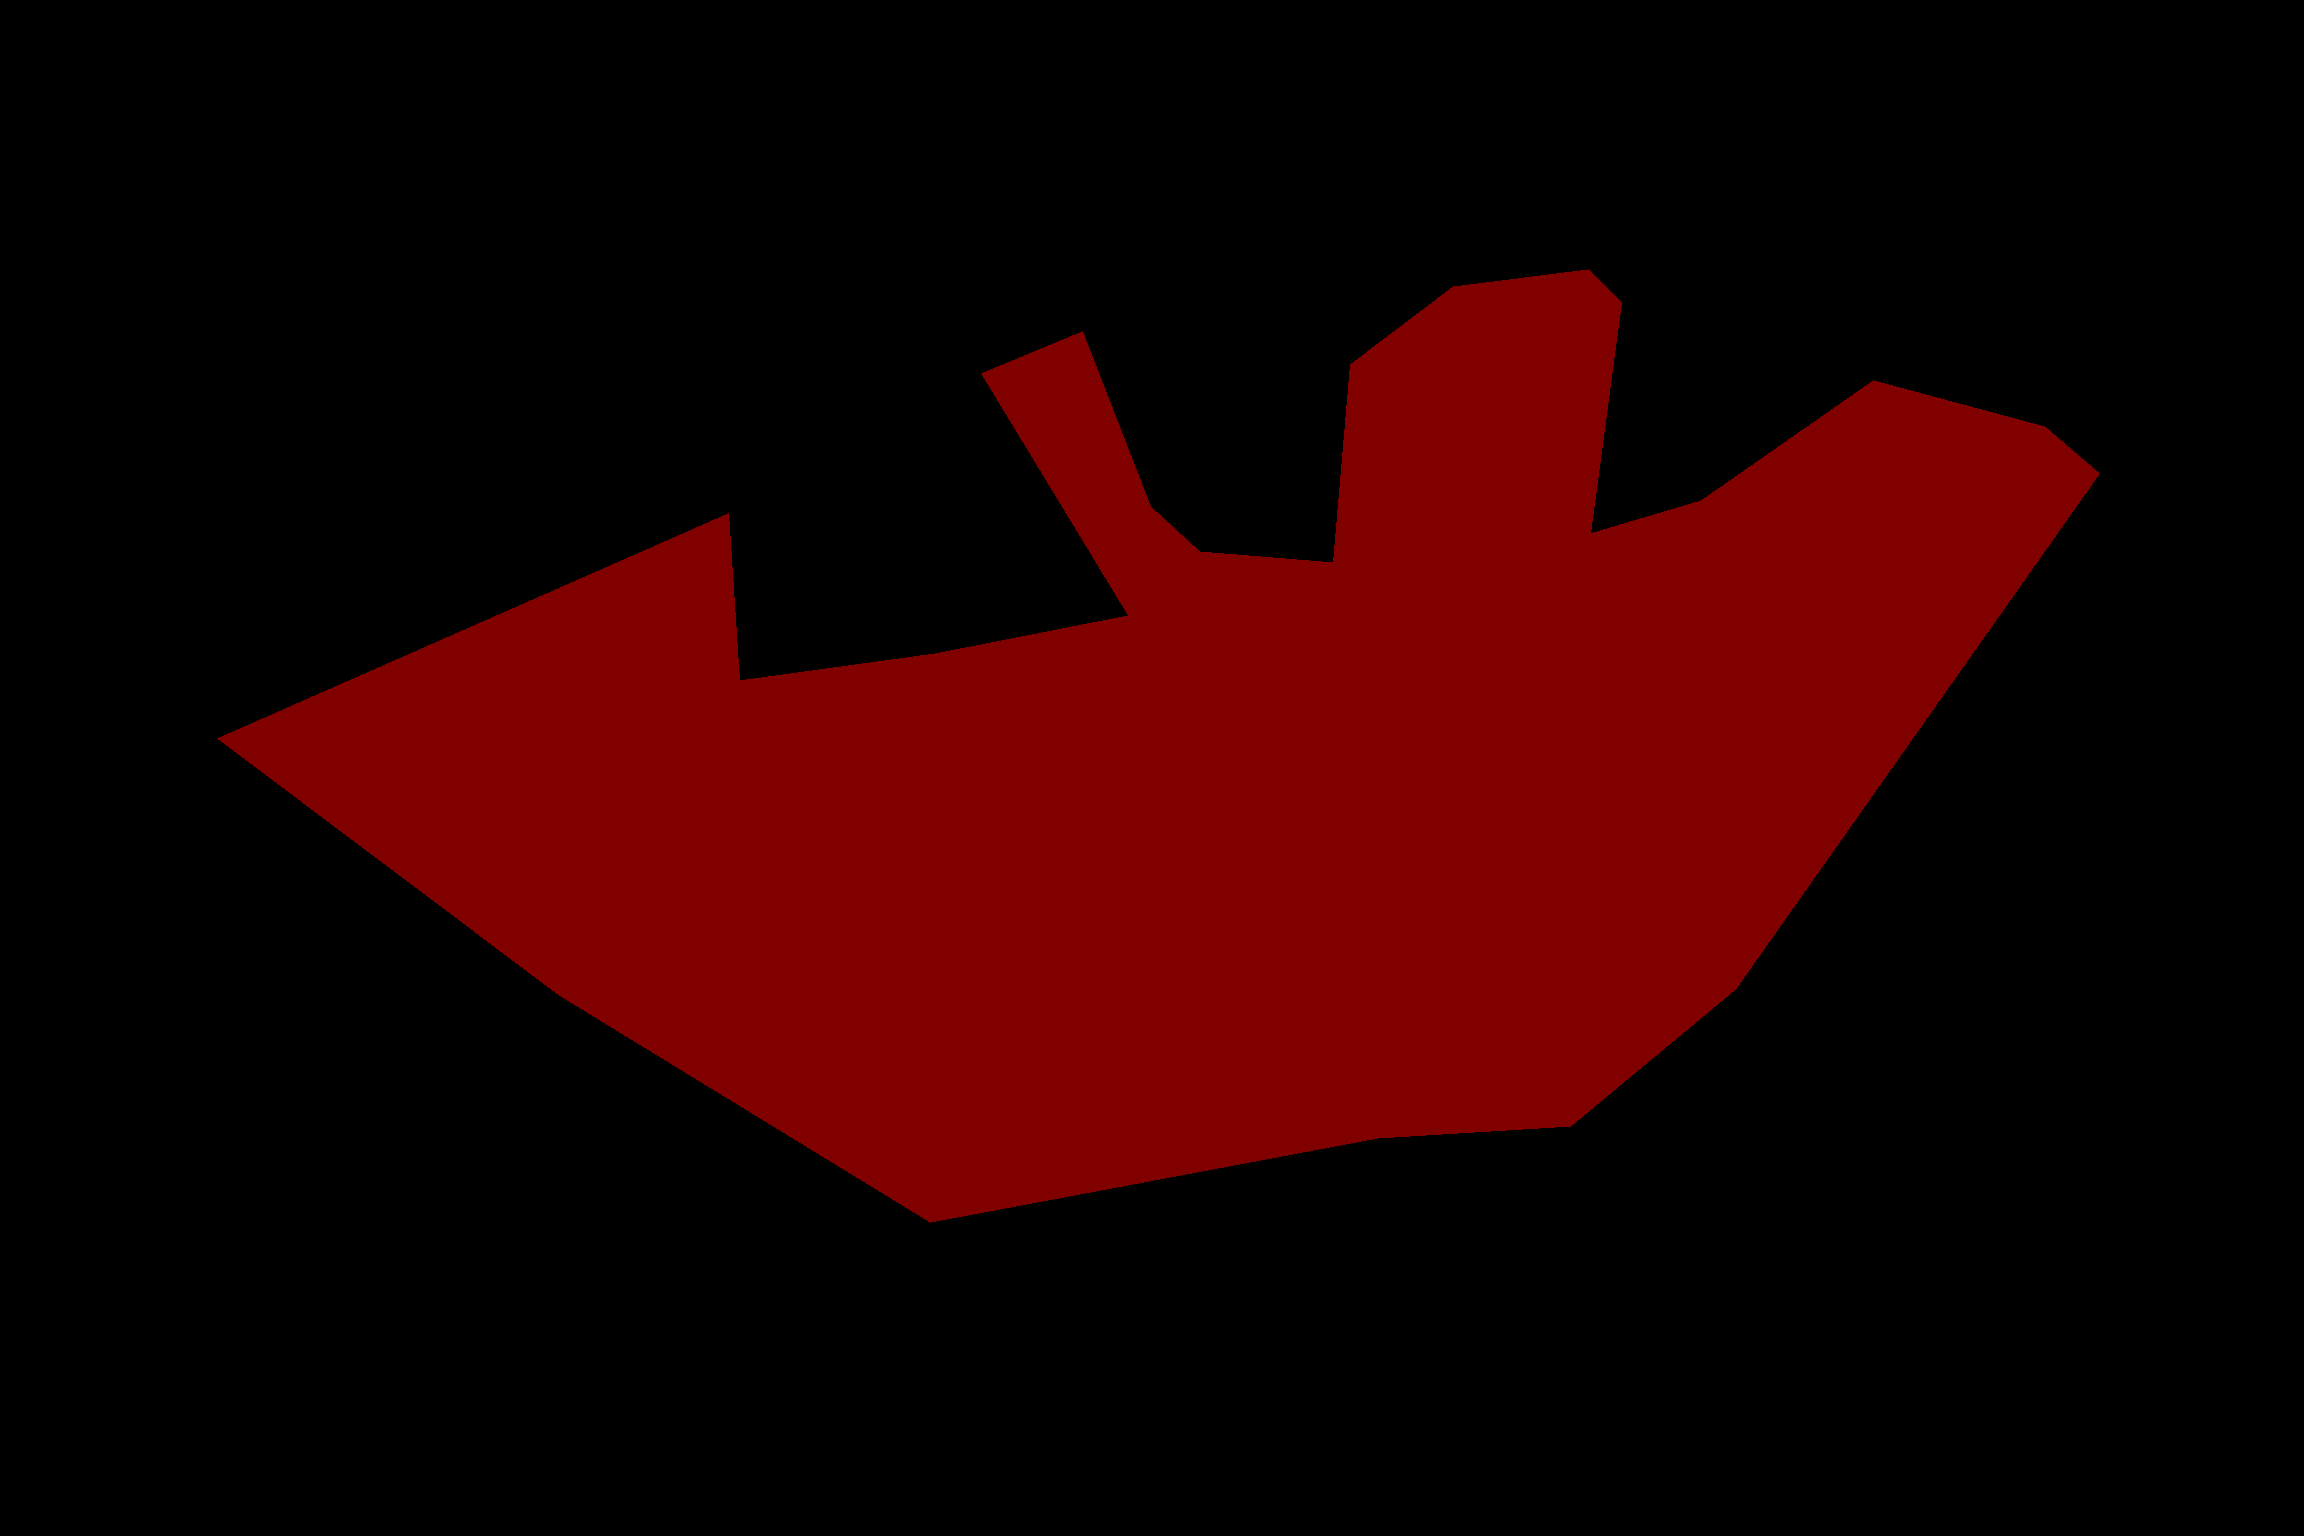fire: (218, 269, 2098, 1222)
